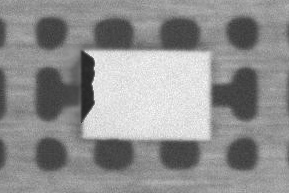DIE_BROKEN: (78, 48, 96, 122)
